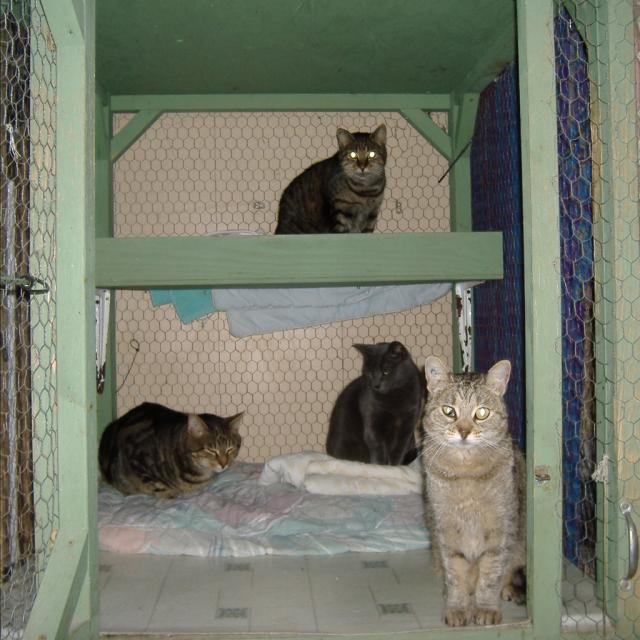Cat: (422, 356, 531, 628), (100, 397, 248, 503), (327, 342, 429, 467), (279, 127, 385, 234)
